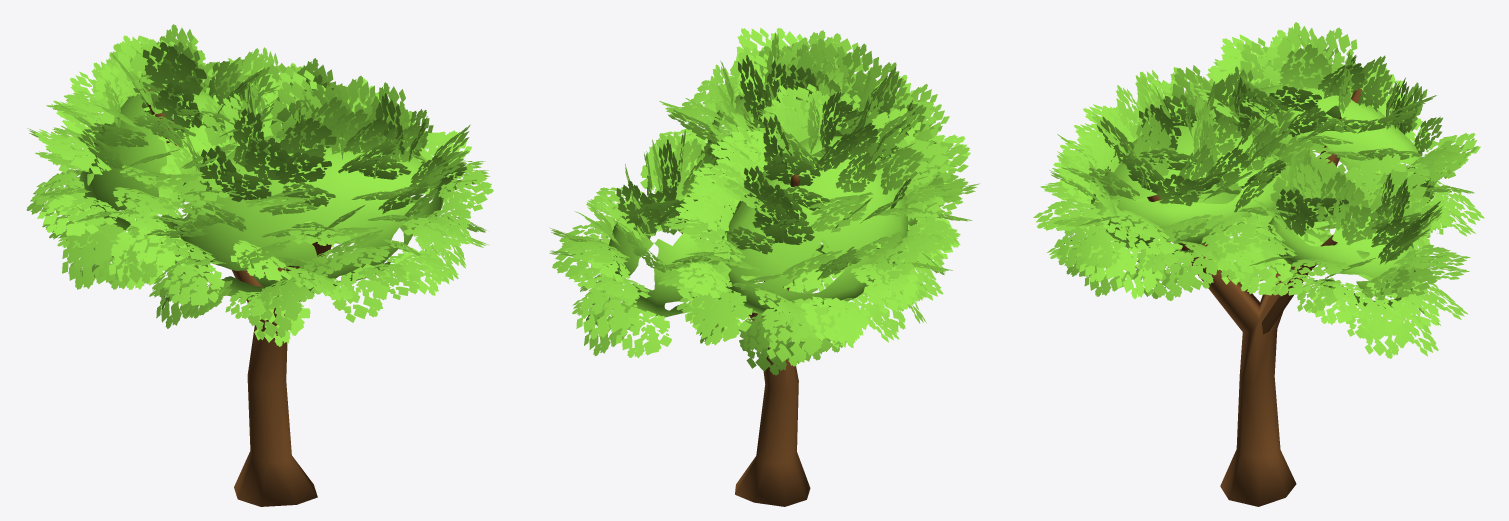
The model's file is Tree_01.fbx.
The picture shows the model from 3 angles, left to right: view 1: azimuth 30°, elevation 25°; view 2: azimuth 150°, elevation 25°; view 3: azimuth 270°, elevation 25°; orthographic projection. The views are drawn at different scales.
Parts seen in each view (by area): view 1: TreeLeaves, Tree_Bark; view 2: TreeLeaves, Tree_Bark; view 3: TreeLeaves, Tree_Bark.
Boxes of the visible parts, bbox=[...] form: TreeLeaves: bbox=[26, 24, 493, 346]; Tree_Bark: bbox=[139, 80, 331, 506]; TreeLeaves: bbox=[549, 27, 979, 375]; Tree_Bark: bbox=[681, 174, 810, 506]; TreeLeaves: bbox=[1033, 22, 1484, 358]; Tree_Bark: bbox=[1147, 88, 1362, 506].
Bounding box in the file's own units: 798 × 895 × 888.
